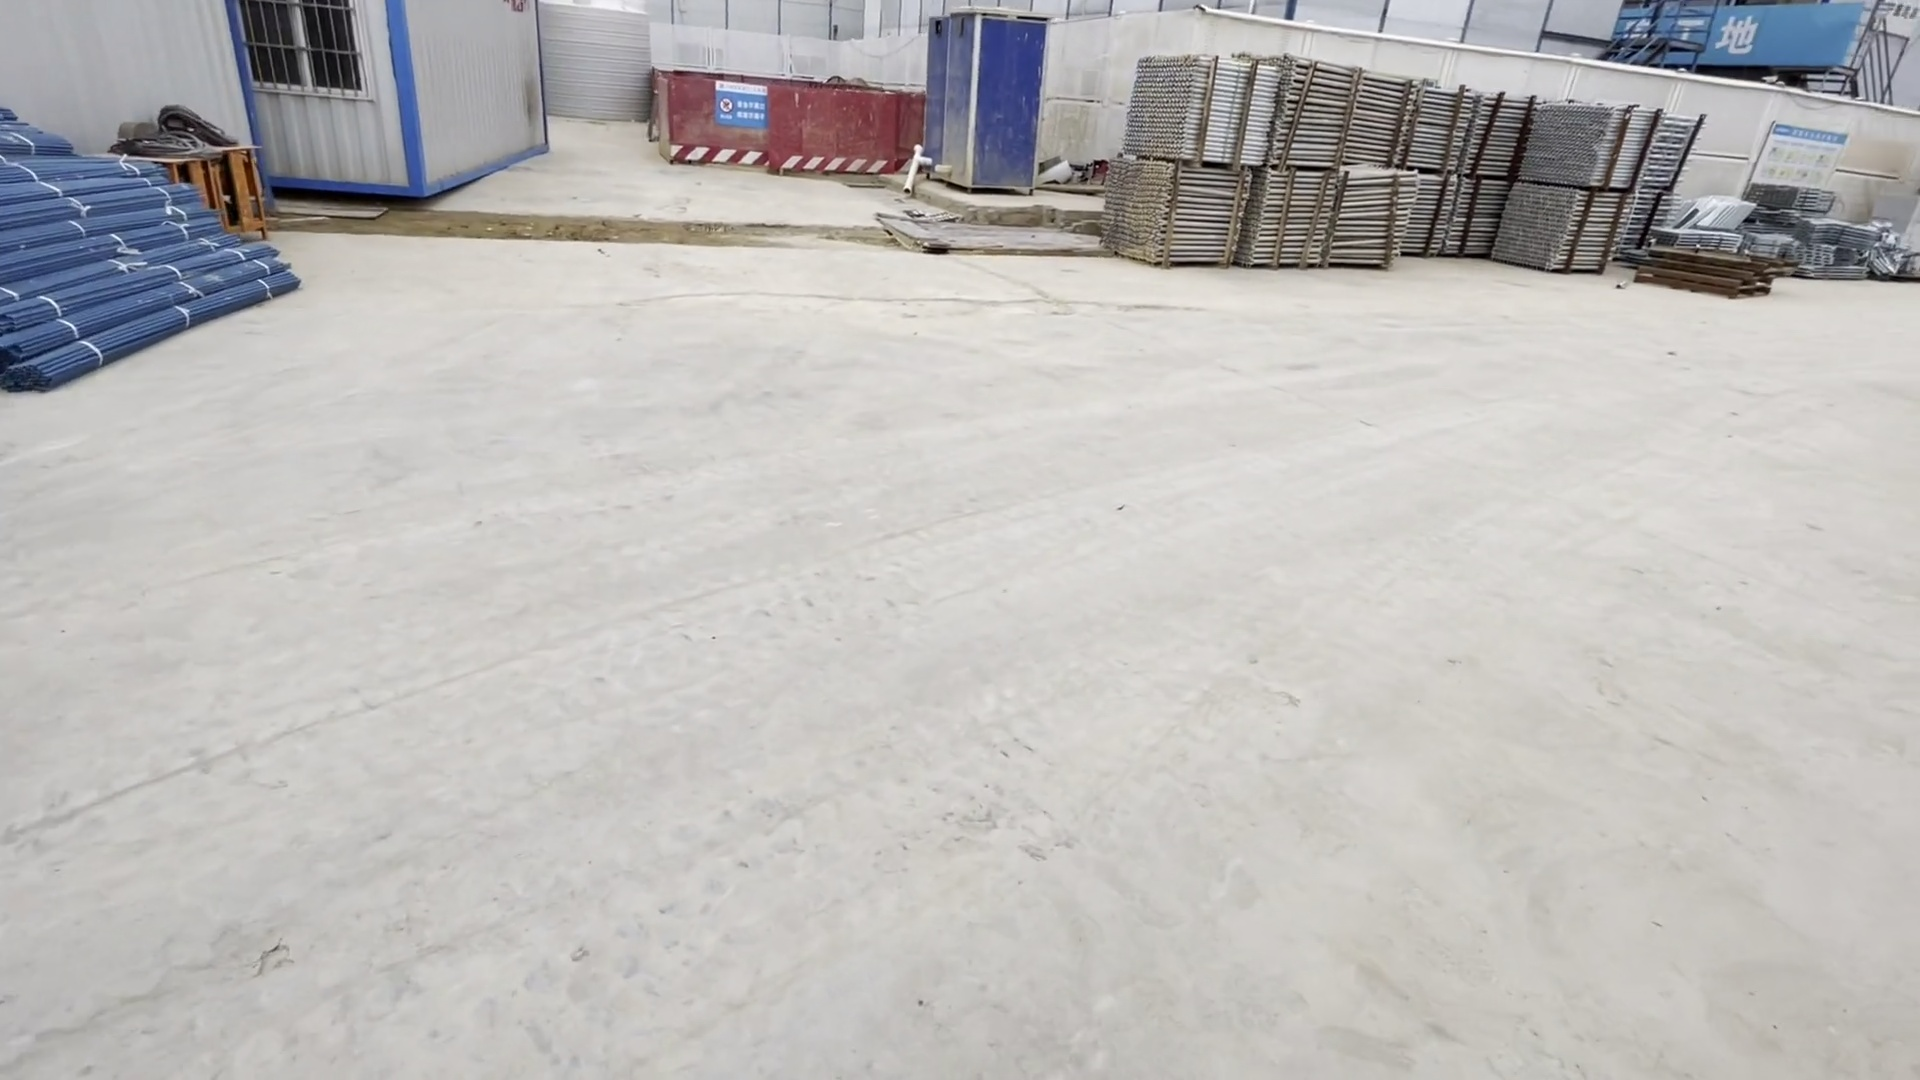fence: (655, 65, 938, 183)
scaffold: (1124, 46, 1698, 307)
